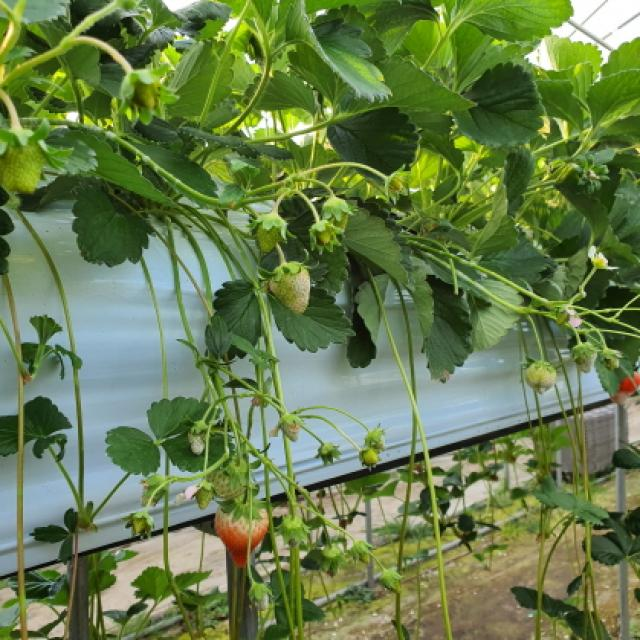Powdery Mildew Fruit: (269, 262, 311, 317)
